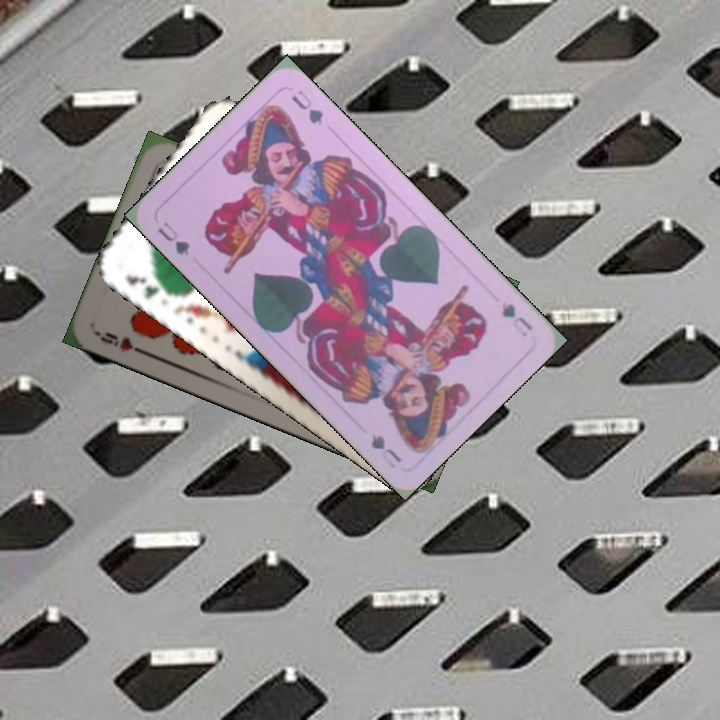GK: (121, 270, 174, 301)
GU: (153, 217, 193, 259), (497, 298, 536, 340)
H9: (92, 327, 149, 358)
